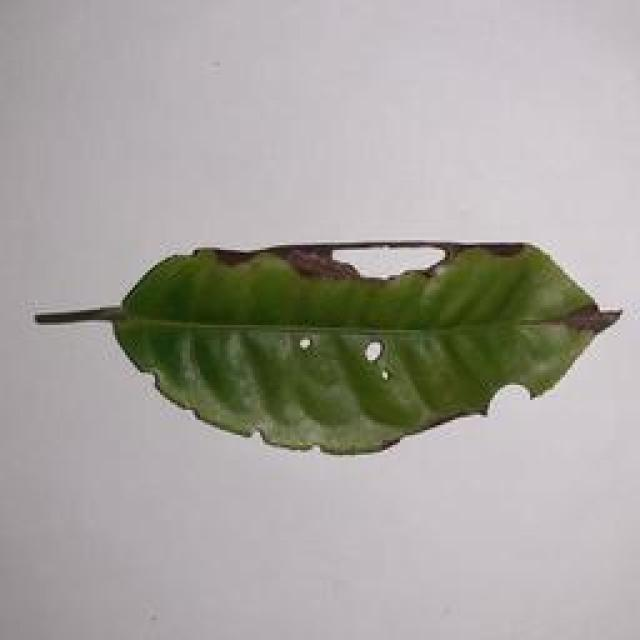Brown Blight: (35, 225, 632, 458)
